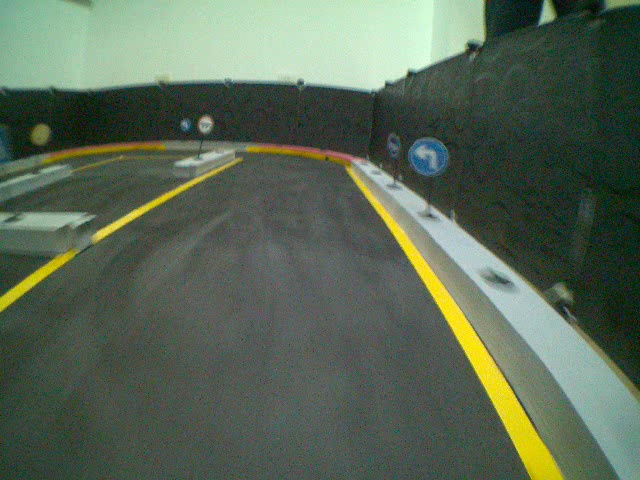Check: (199, 111, 212, 135)
horn: (386, 133, 403, 160)
turn: (409, 131, 452, 177), (179, 117, 192, 136)
